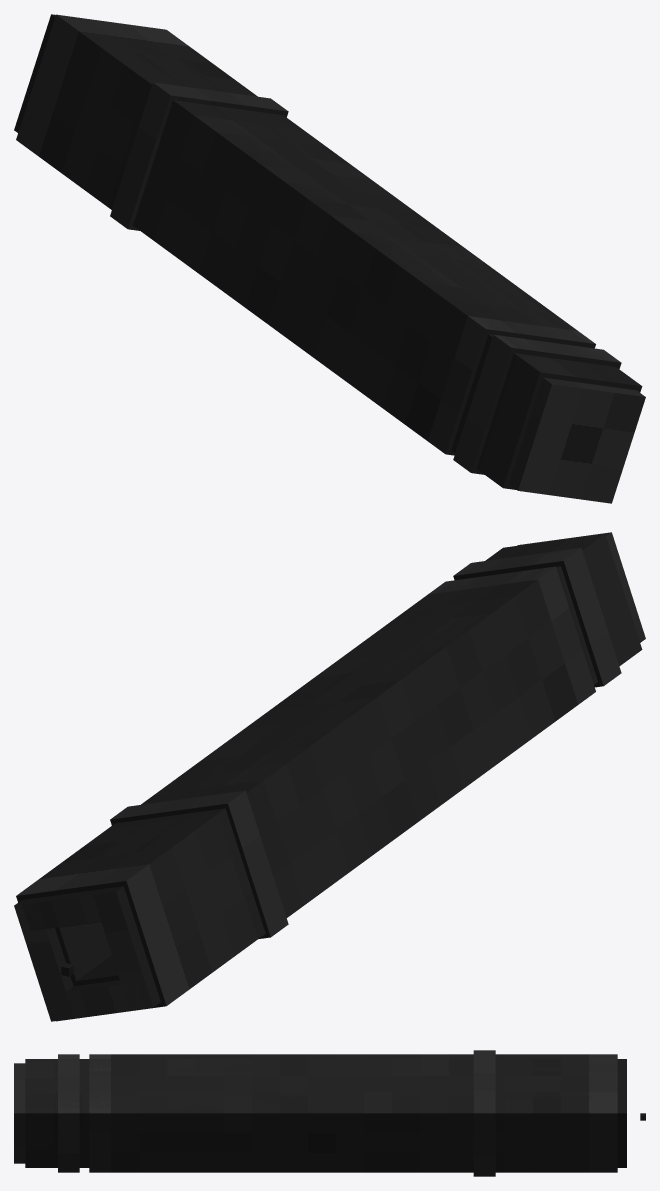
File: c_sandmans.geo.fbx
The picture shows the model from 3 angles, top to bottom: view 1: azimuth 30°, elevation 25°; view 2: azimuth 150°, elevation 25°; view 3: azimuth 270°, elevation 25°; orthographic projection. The views are drawn at different scales.
Parts seen in each view (by area): view 1: gun; view 2: gun; view 3: gun.
Part boxes in pixels (x1,y1,x2,y2): gun: [14, 14, 645, 503]; gun: [14, 532, 645, 1021]; gun: [14, 1050, 626, 1176].
Size of the model in its own units: 25.07 by 25.07 by 139.
Materials: 1 (1 with a texture image).
